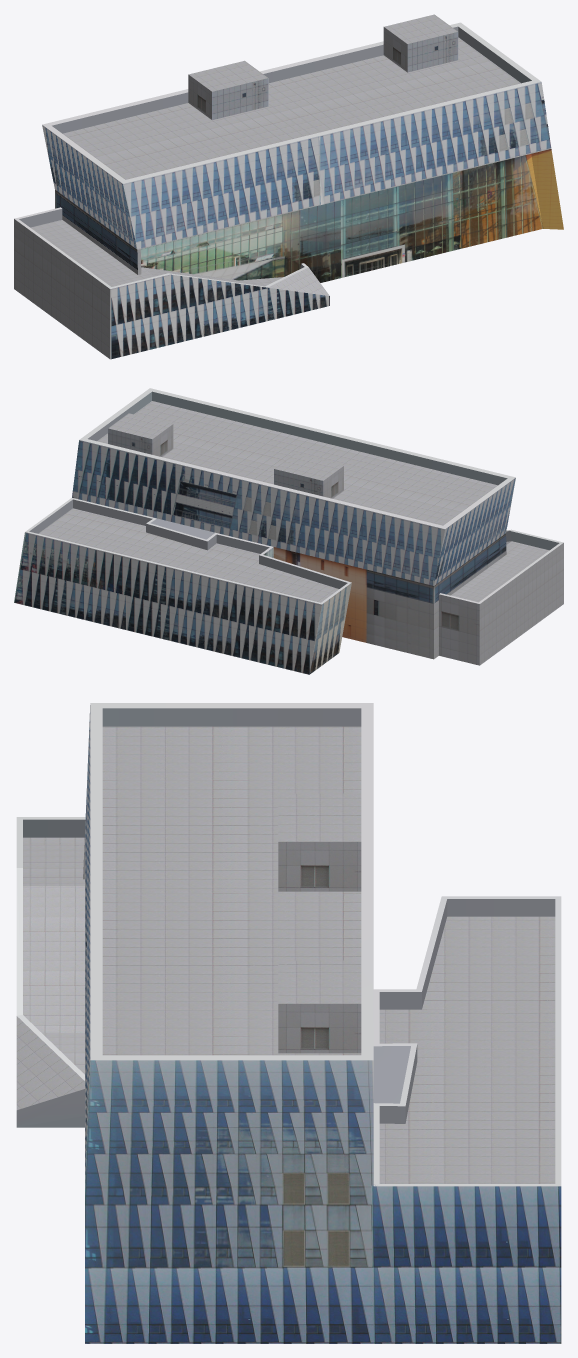
3 views of the same model, one above another, from view 1: azimuth 30°, elevation 25°; view 2: azimuth 150°, elevation 25°; view 3: azimuth 270°, elevation 25° (orthographic). The views are drawn at different scales.
Visible parts, largest first — view 1: MainBuilding; view 2: MainBuilding; view 3: MainBuilding.
Boxes of the visible parts, bbox=[...] form: MainBuilding: bbox=[14, 14, 563, 359]; MainBuilding: bbox=[14, 388, 563, 674]; MainBuilding: bbox=[16, 703, 561, 1343].
Bounding box in the file's own units: 8.03 × 2.76 × 4.58.
1 material, 1 textured.
